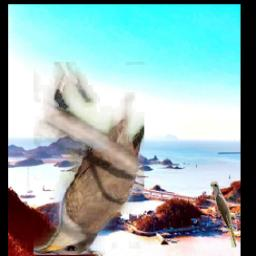Cuckoo: (34, 62, 144, 255), (211, 183, 238, 249)
